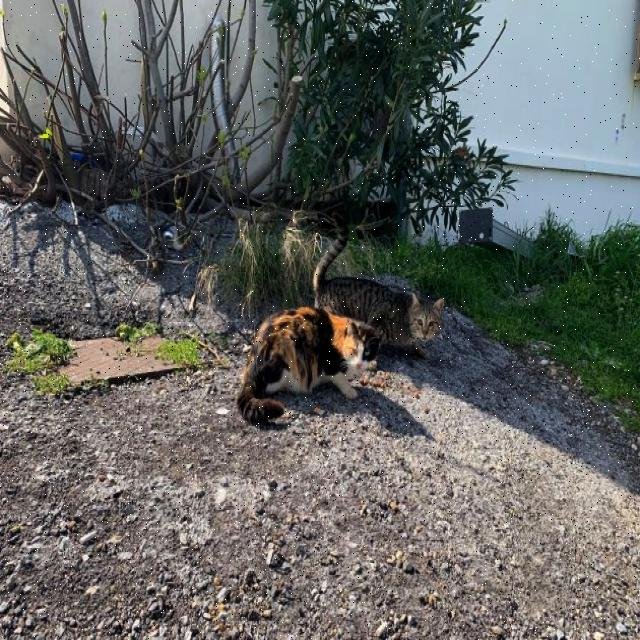cat: (314, 215, 444, 355), (237, 306, 379, 422)
